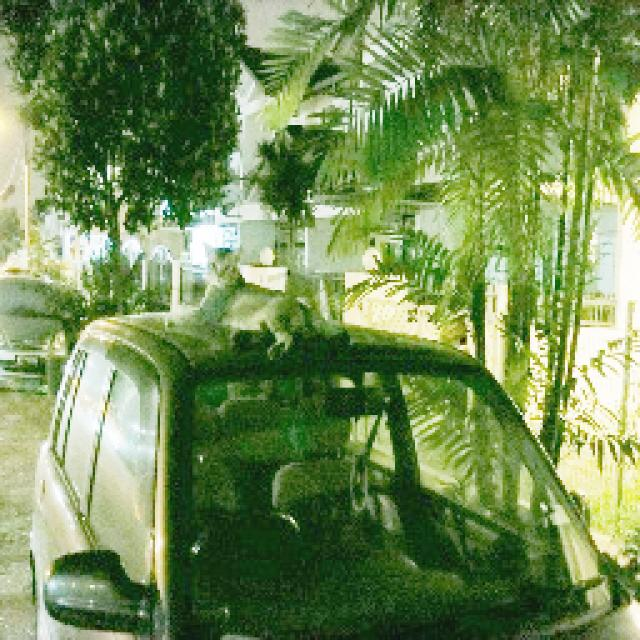cat: (159, 231, 342, 380)
